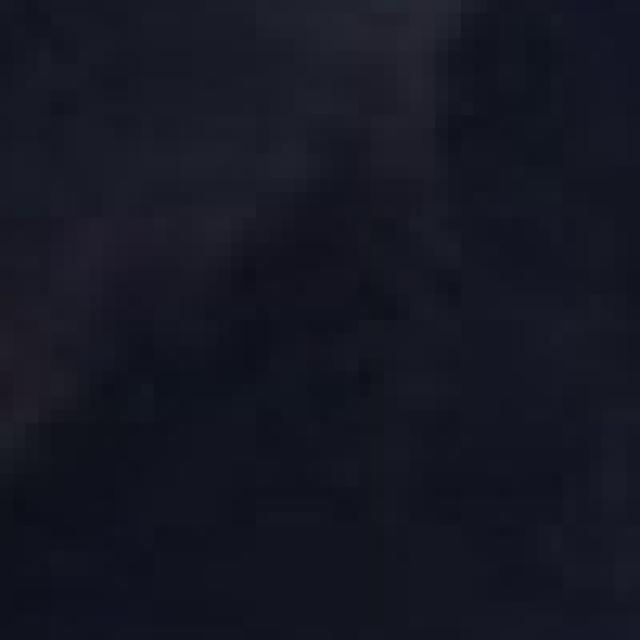fire: (25, 13, 640, 589)
